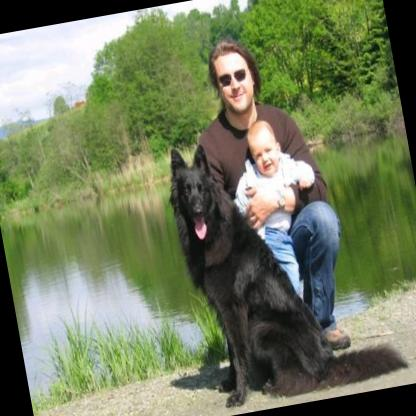groenendael: (159, 114, 408, 410)
